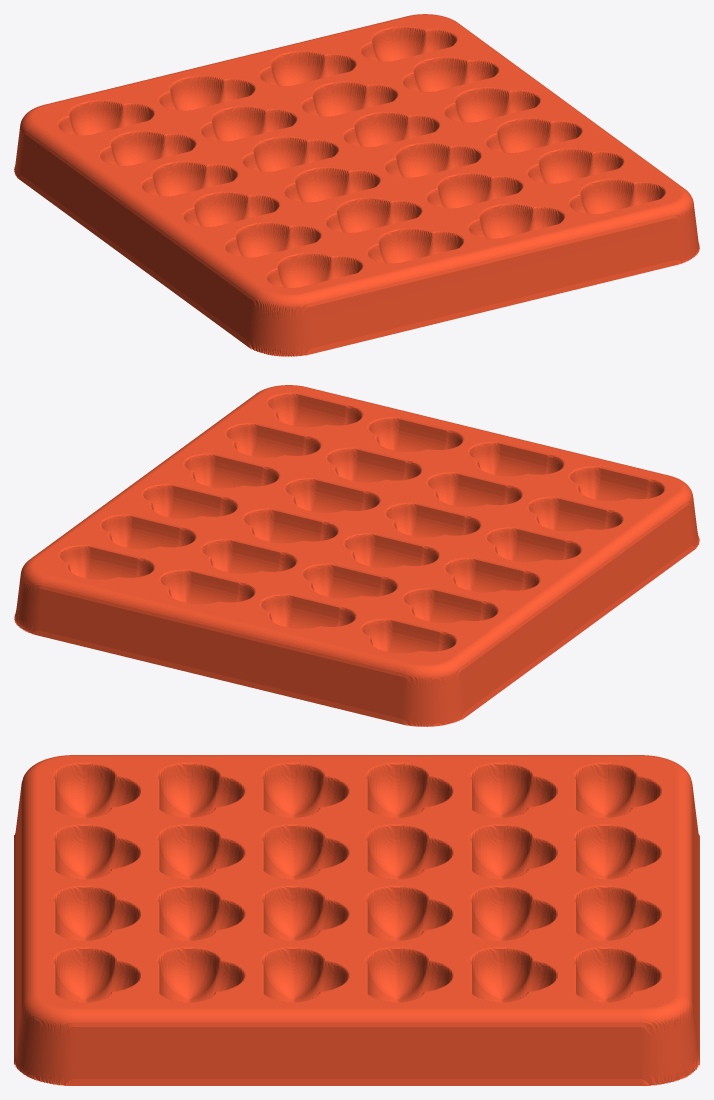
Rendered from mold.glb.
3 renders of one model, top to bottom at view 1: azimuth 30°, elevation 25°; view 2: azimuth 150°, elevation 25°; view 3: azimuth 270°, elevation 25°, orthographic. The views are drawn at different scales.
Parts seen in each view (by area): view 1: geometry_0; view 2: geometry_0; view 3: geometry_0.
Boxes of the visible parts, <box> form: geometry_0: <box>14,14,699,356</box>; geometry_0: <box>14,385,699,726</box>; geometry_0: <box>14,755,699,1085</box>.
Size of the model in its own units: 0.098 by 0.0114 by 0.1045.
